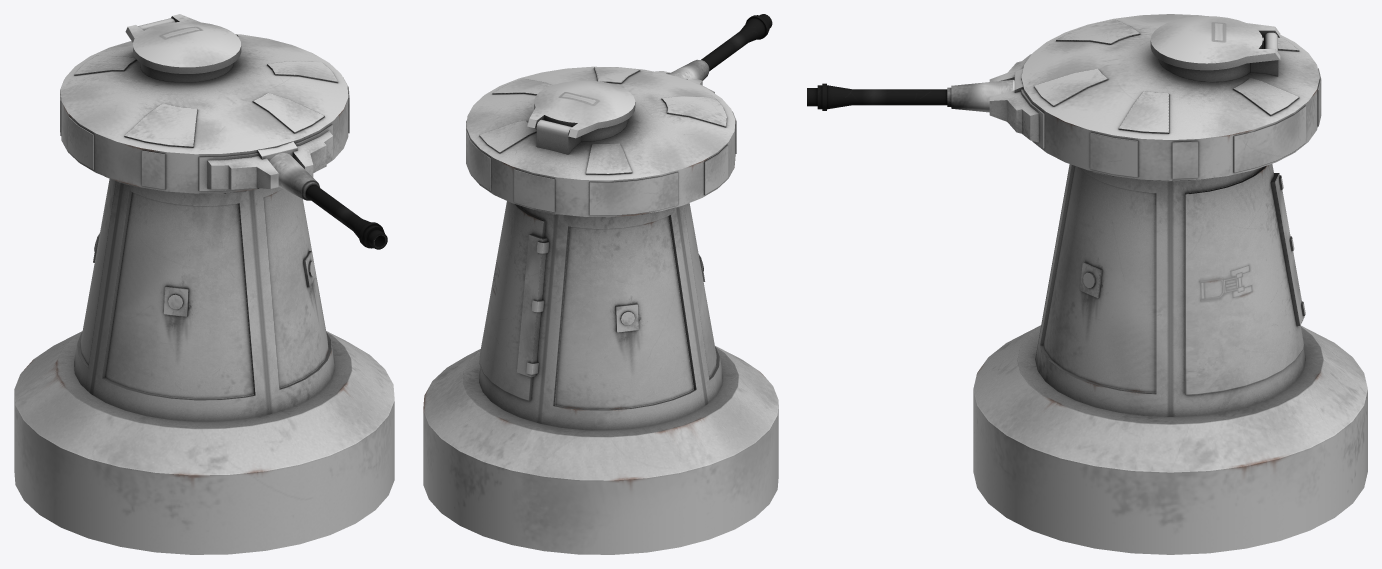
Rendered from turret.glb.
3 renders of one model, left to right at view 1: azimuth 30°, elevation 25°; view 2: azimuth 150°, elevation 25°; view 3: azimuth 270°, elevation 25°, orthographic. The views are drawn at different scales.
Visible parts, largest first — view 1: Base, Turret, Barrel; view 2: Base, Turret, Barrel; view 3: Base, Turret, Barrel.
Part boxes in pixels (x1,y1,x2,y2): Base: (14,179,394,554); Turret: (60,14,349,193); Barrel: (269,153,387,249); Base: (423,201,778,554); Turret: (466,66,736,217); Barrel: (668,14,772,80); Base: (973,164,1367,554); Turret: (989,14,1321,181); Barrel: (807,80,1014,112).
Size of the model in its own units: 2.13 by 2.63 by 3.03.
1 material, 1 textured.
